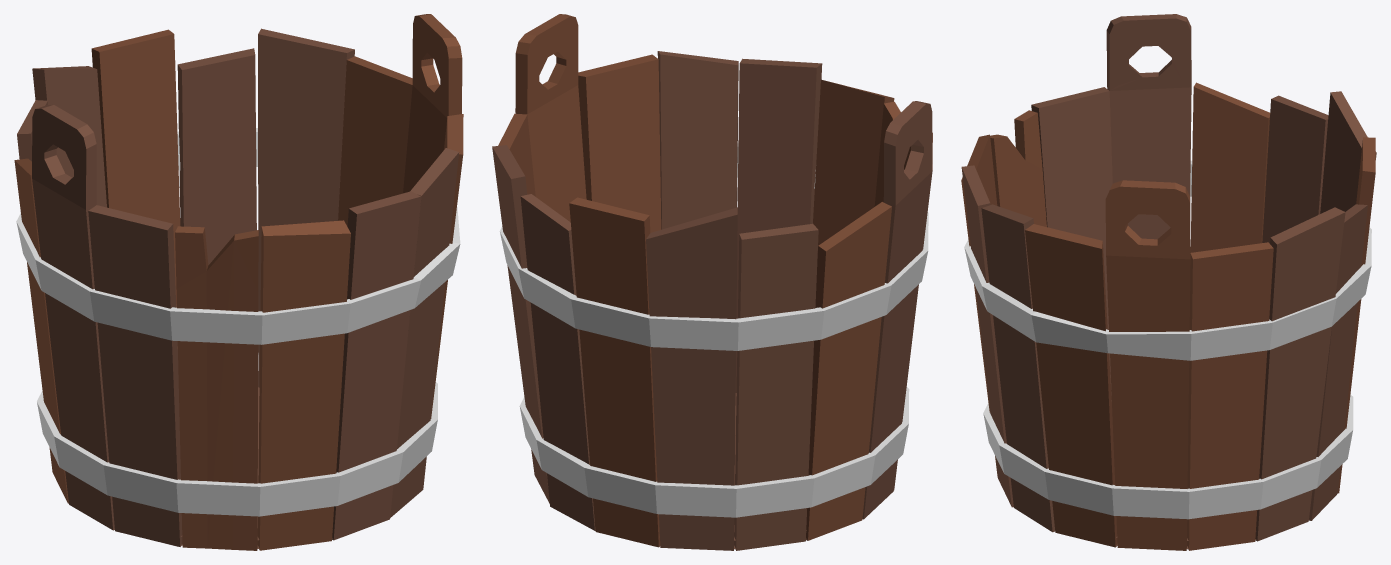
The model's file is Bucket Asia.fbx.
3 renders of one model, left to right at view 1: azimuth 30°, elevation 25°; view 2: azimuth 150°, elevation 25°; view 3: azimuth 270°, elevation 25°, orthographic. The views are drawn at different scales.
Visible parts, largest first — view 1: Bucket; view 2: Bucket; view 3: Bucket.
Part boxes in pixels (box(x1,y1,x2,y2)): Bucket: box(14, 14, 463, 550); Bucket: box(492, 14, 932, 550); Bucket: box(961, 14, 1376, 550).
Size of the model in its own units: 0.3467 by 0.3461 by 0.3449.
